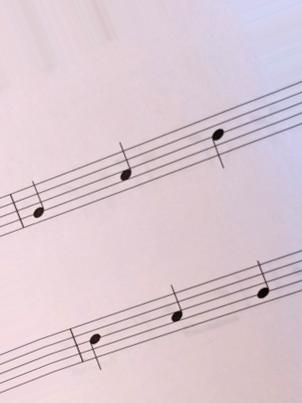note: (160, 282, 191, 336), (209, 113, 236, 172), (85, 315, 109, 377), (25, 176, 52, 229), (113, 140, 138, 196), (250, 255, 274, 312)
